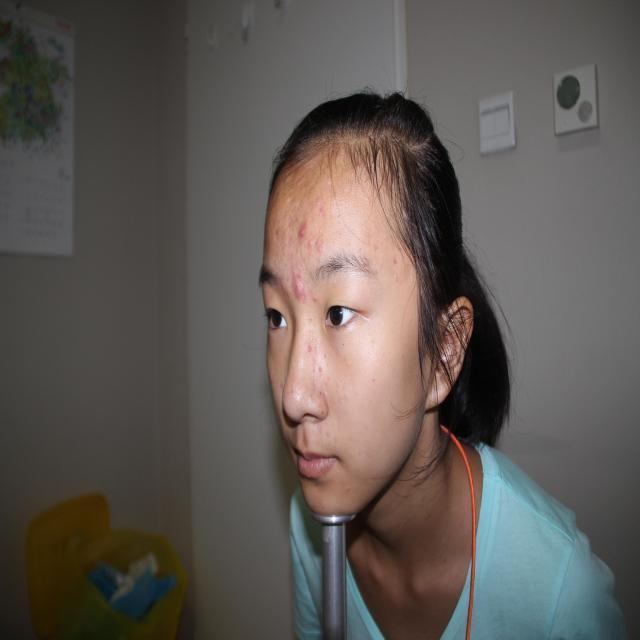acne: (314, 234, 331, 259), (304, 355, 321, 373), (297, 222, 307, 238), (304, 340, 314, 354), (313, 291, 321, 306), (304, 236, 310, 249)
